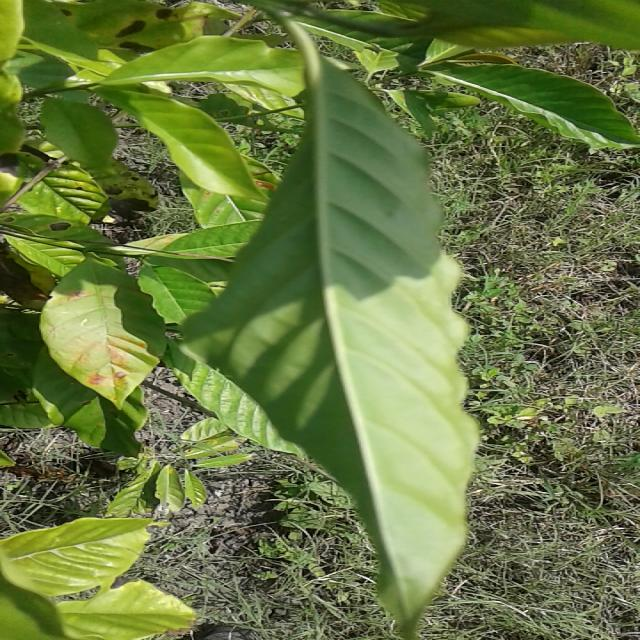Sanas: (172, 22, 481, 640)
